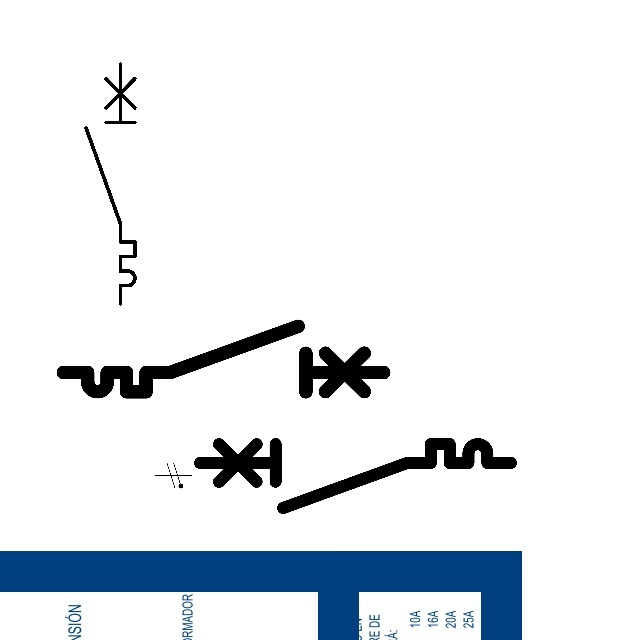interruptor_termomagnetico: (55, 318, 392, 400), (192, 436, 519, 516), (80, 58, 141, 310)
